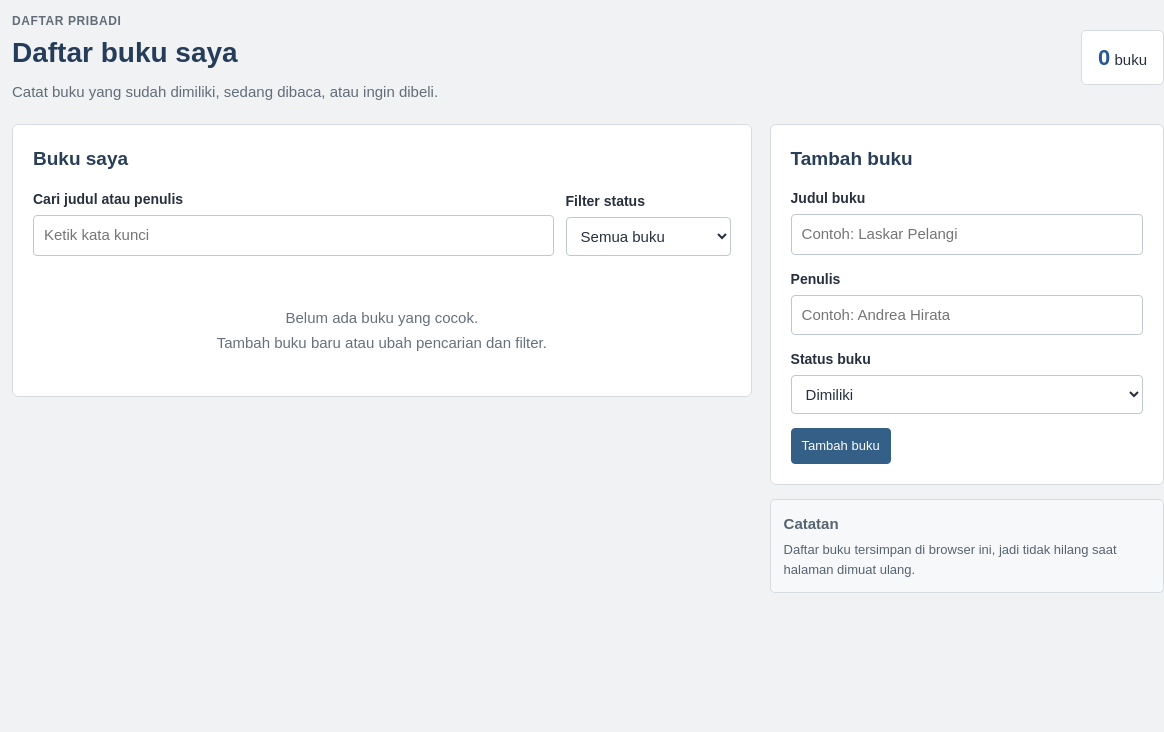
Scenario: HomePage › menambah buku dan menyimpannya ke localStorage
Type "Laskar Pelangi" into the field labelled "Judul buku". click: (967, 234)
box: [791,214,1143,254]
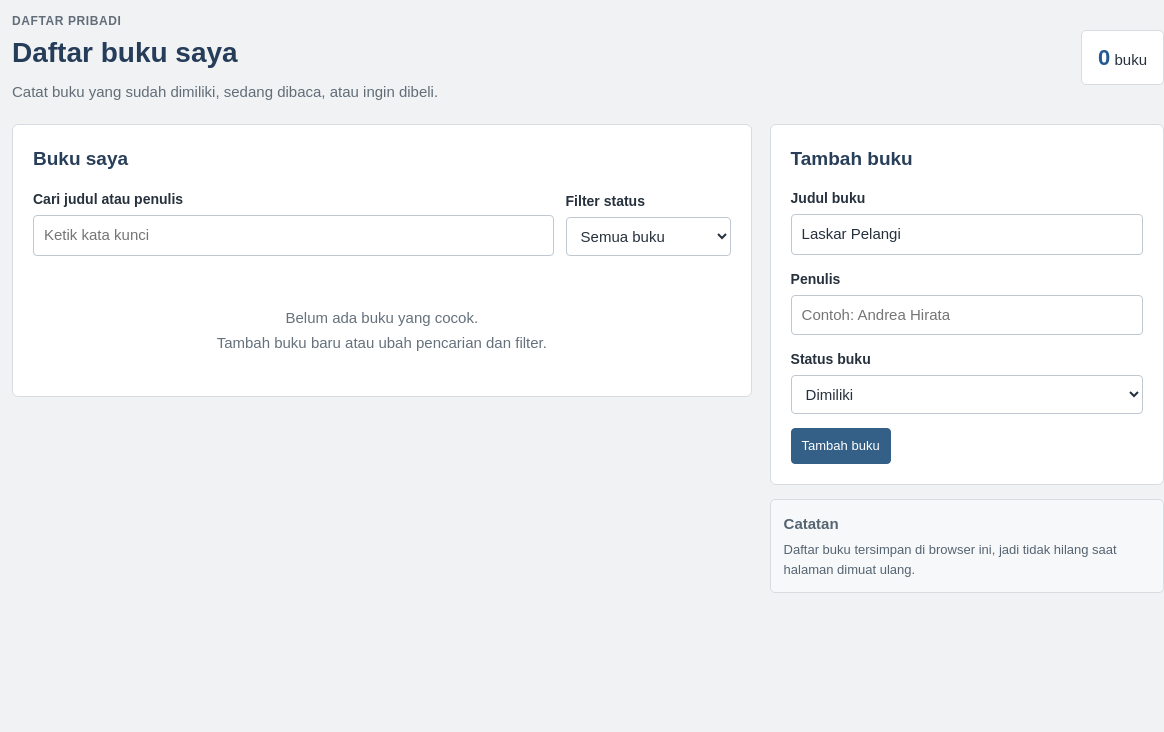
Type "Andrea Hirata" into the field labelled "Penulis". click: (967, 315)
box: [791,294,1143,335]
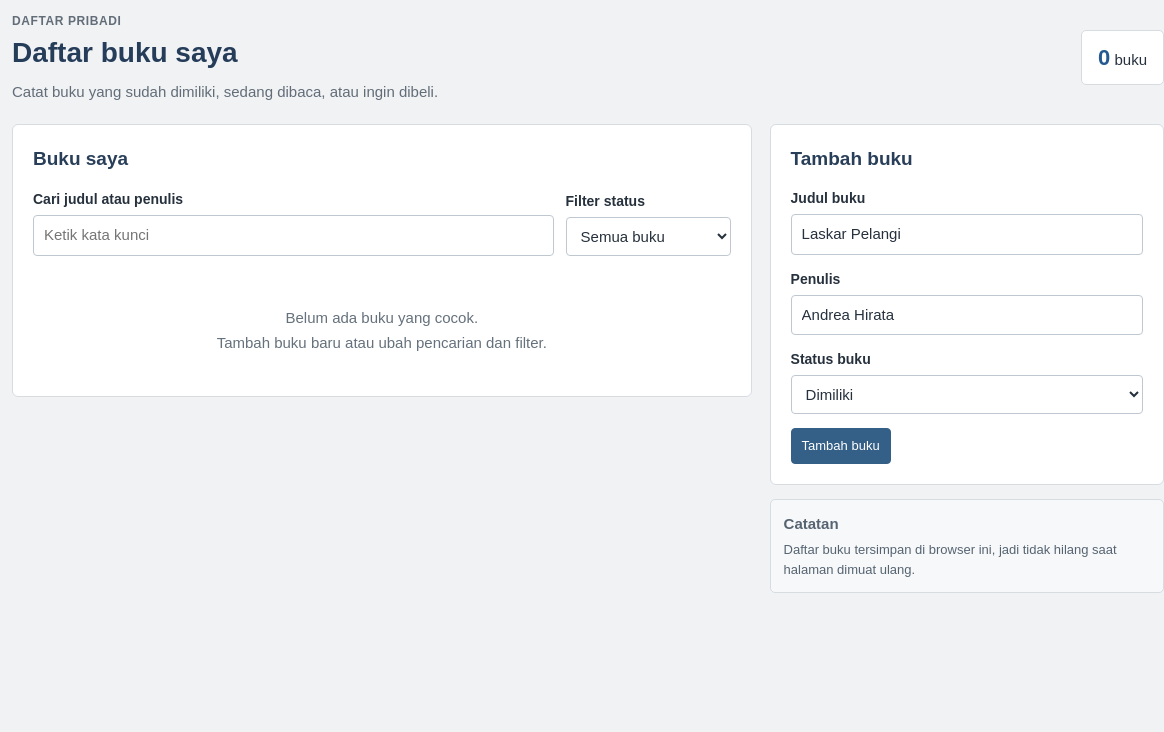
Select "Dimiliki" in the dropdown labelled "Status buku". click: (967, 394)
box: [791,375,1143,414]
Click the button "Tambah buku". click: (841, 446)
box: [791,428,891,464]
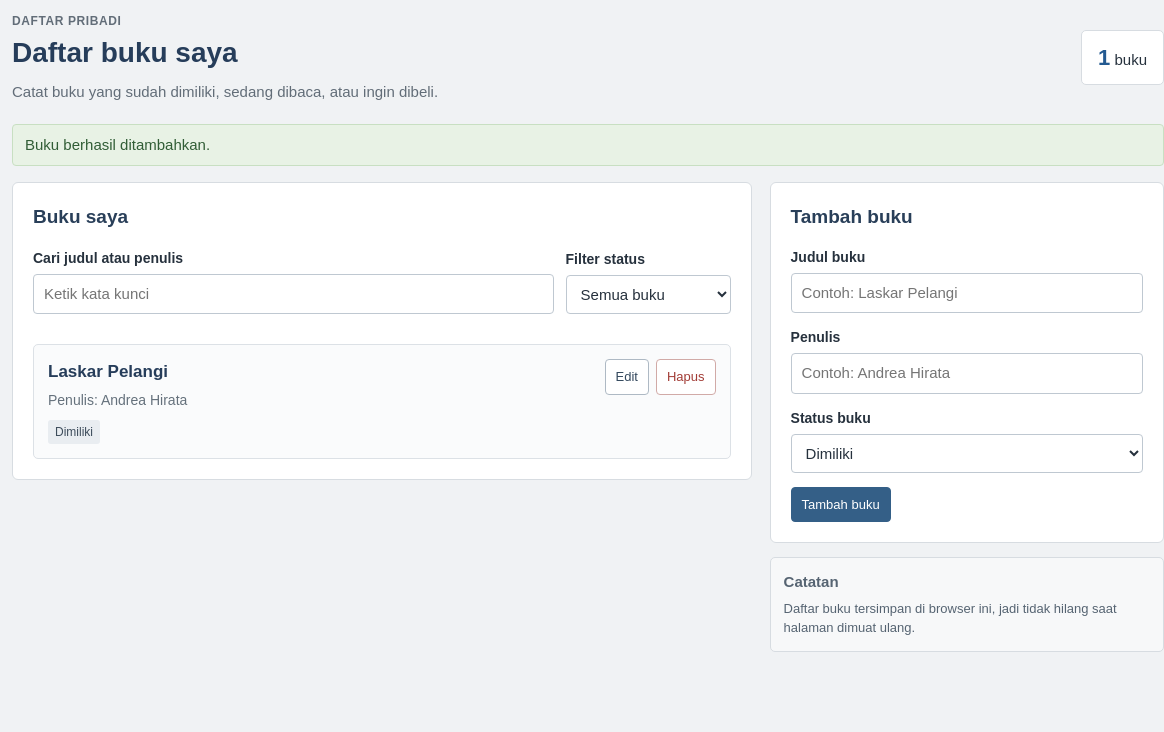
Check: the heading "Laskar Pelangi" is shown, box [48,359,187,384]
